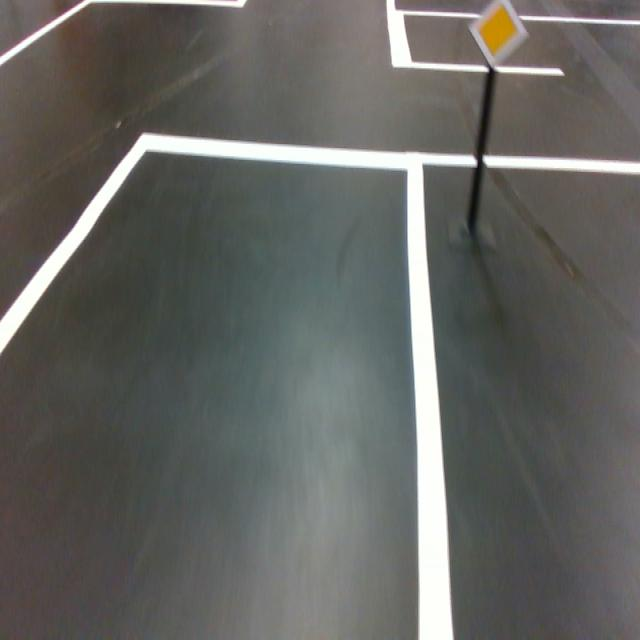priority-sign: (466, 0, 530, 69)
